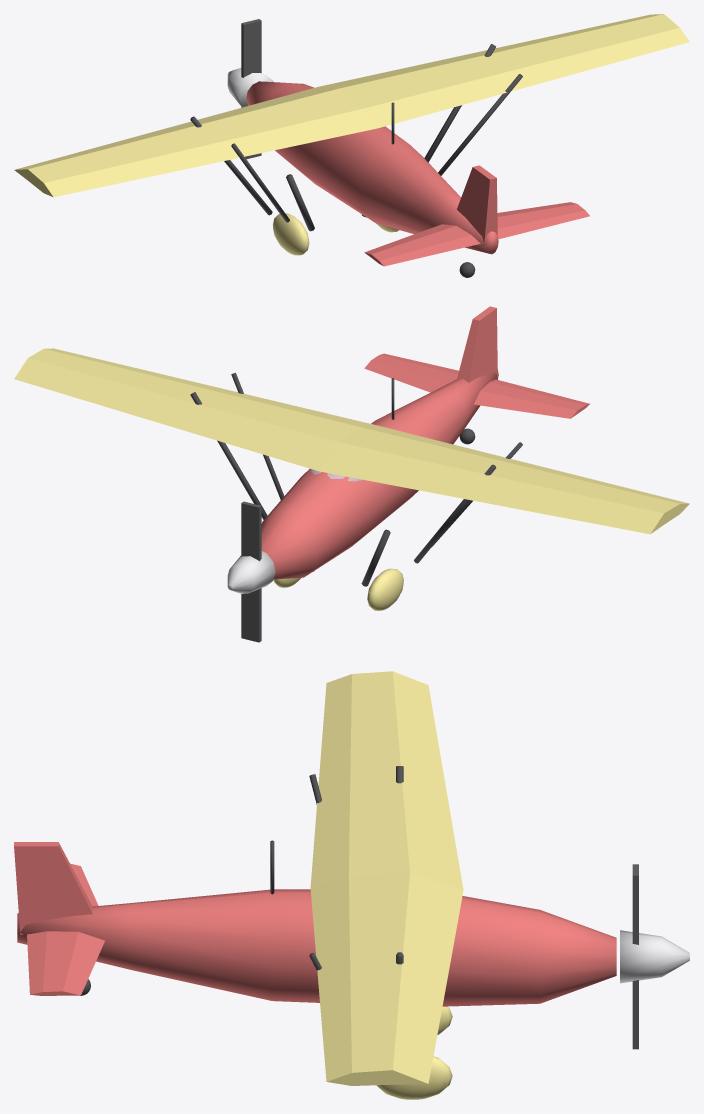
File: plane_scout.glb
The picture shows the model from 3 angles, top to bottom: view 1: azimuth 30°, elevation 25°; view 2: azimuth 150°, elevation 25°; view 3: azimuth 270°, elevation 25°; orthographic projection. The views are drawn at different scales.
Visible parts, largest first — view 1: Scout_Body, Prop_Scout; view 2: Scout_Body, Prop_Scout; view 3: Scout_Body, Prop_Scout.
Boxes of the visible parts, x1,y1,x2,y2 form: Scout_Body: (14,14,689,277); Prop_Scout: (227,19,273,159); Scout_Body: (14,306,689,610); Prop_Scout: (227,501,275,642); Scout_Body: (14,671,616,1099); Prop_Scout: (620,864,689,1049).
Size of the model in its own units: 14.8 by 3.95 by 10.6.
